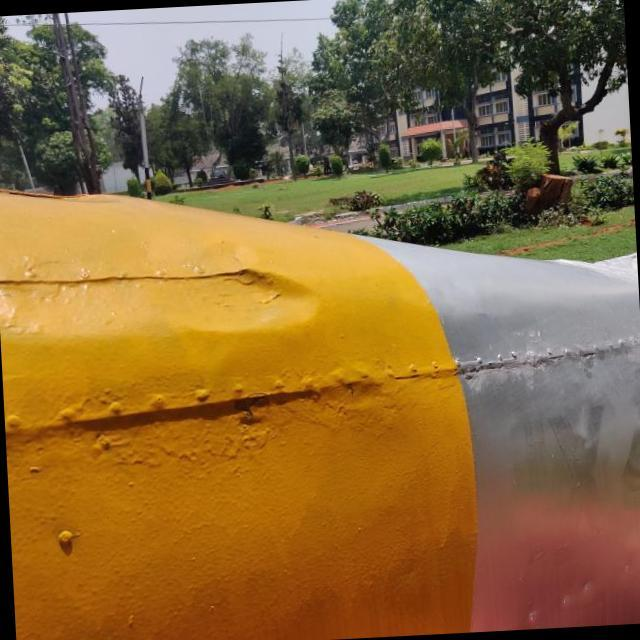Dent: (156, 231, 354, 367)
